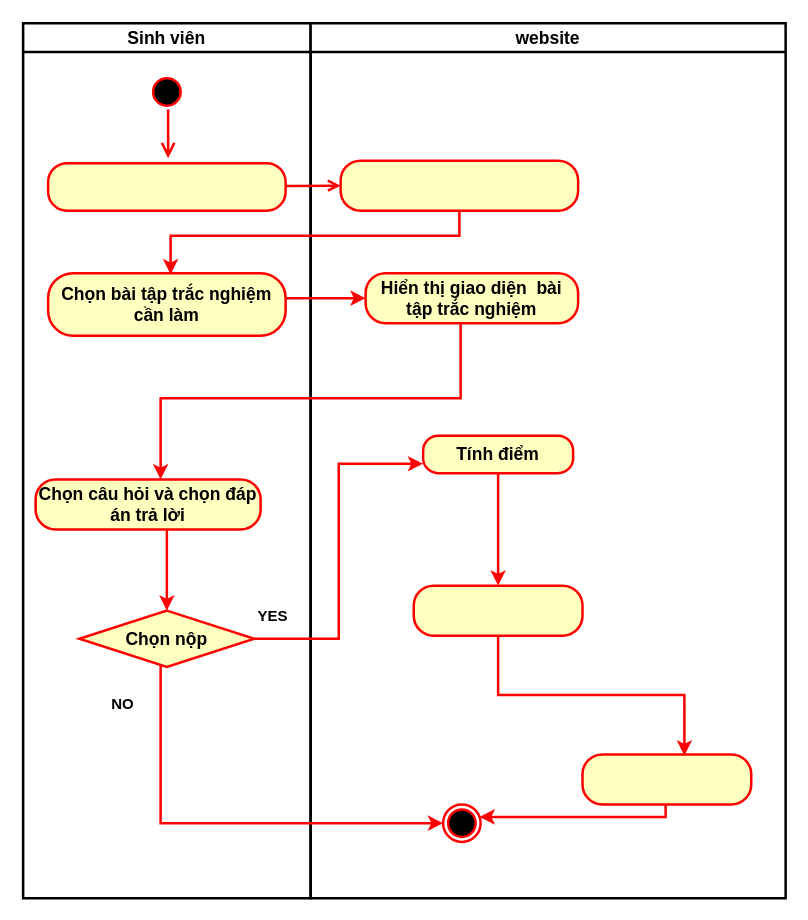
The diagram is 808 pixels wide and 920 high, and some of its shapes have lost their labels. Each missing label, with the box of its shape:
Chọn chức năng bài tập: (46, 161, 286, 211)
Cập nhật dữ liệu: (412, 584, 583, 636)
Hiển thị giao diện bài tập cho sinh viên: (339, 159, 579, 211)
Thông báo kết quả cho sinh viên: (581, 752, 752, 805)
